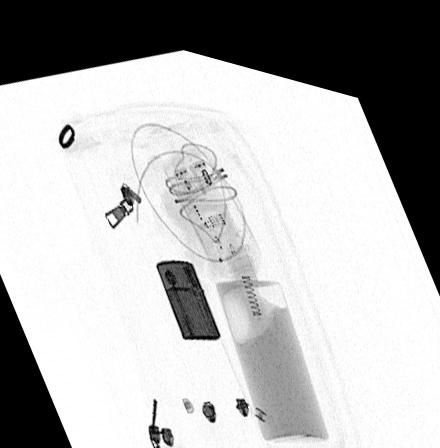Lighter: (155, 248, 221, 328)
